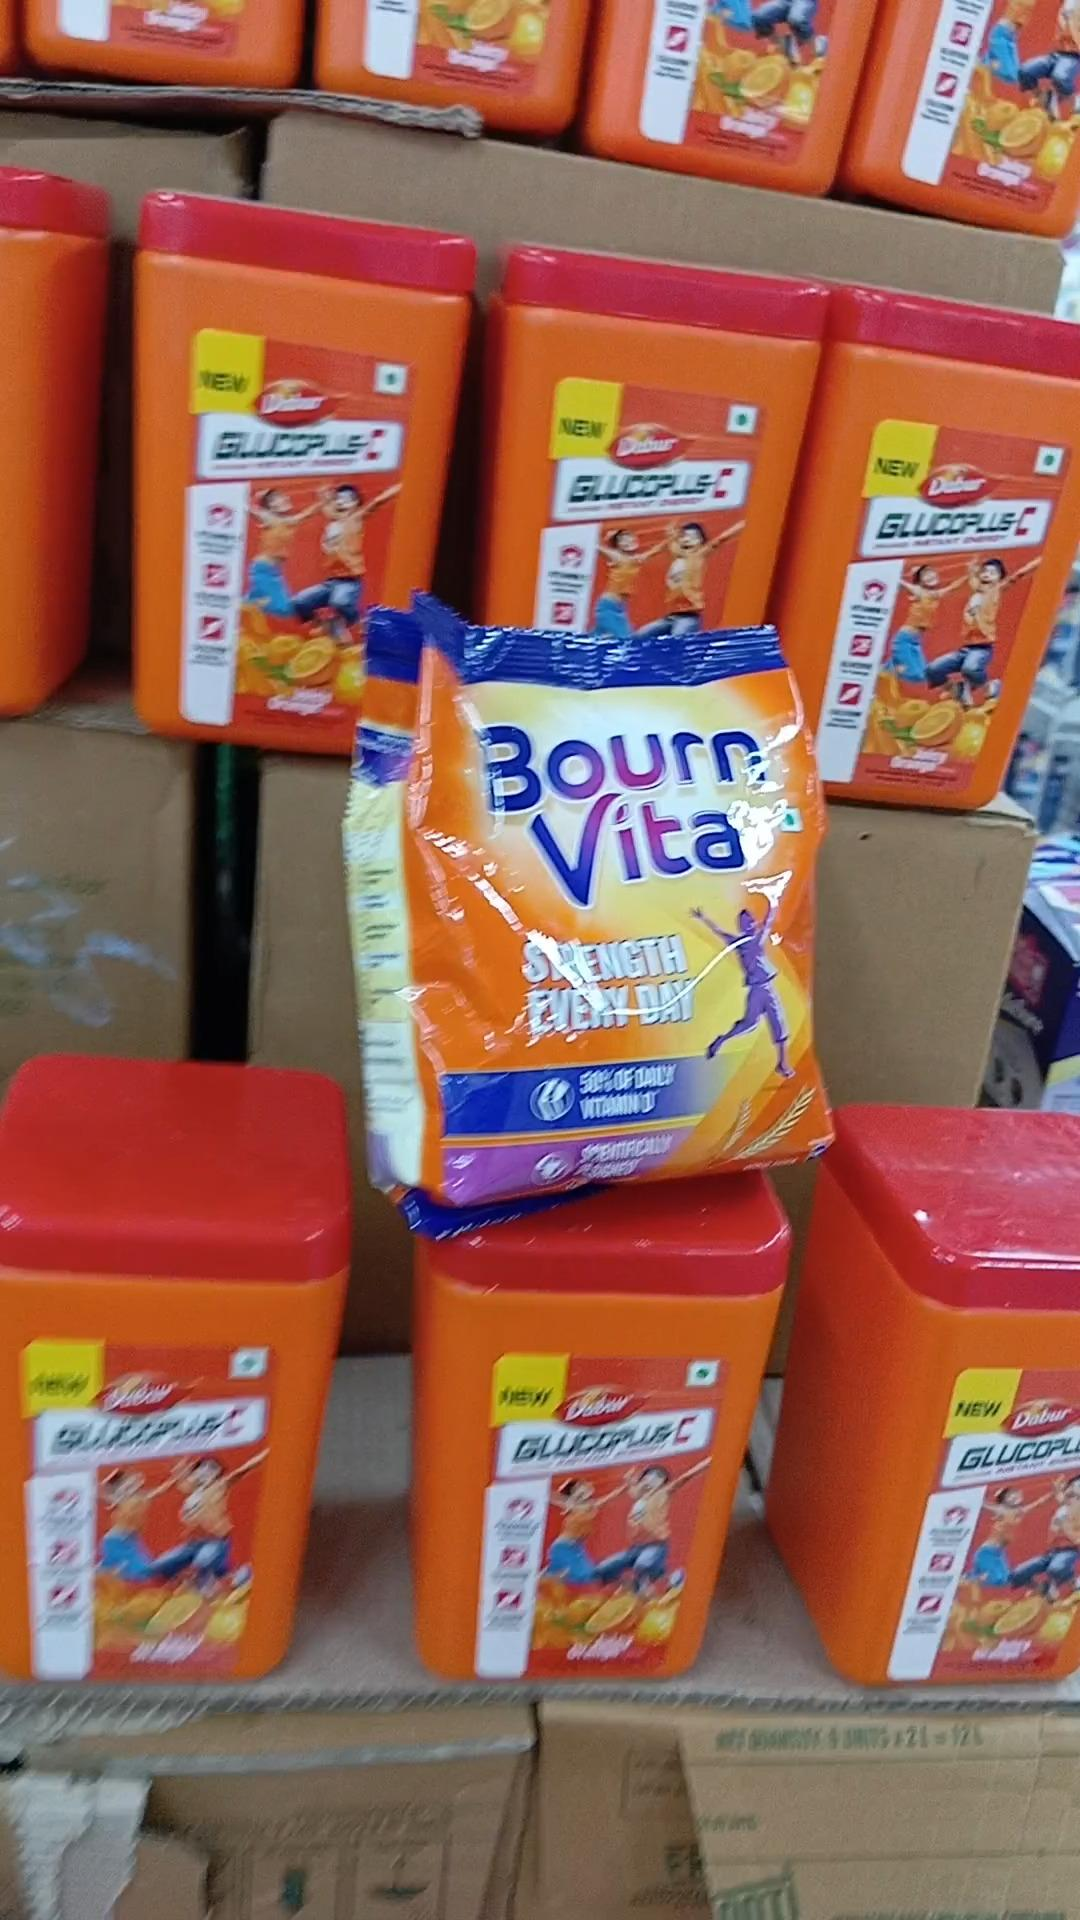BOURN_VITA_500_G_POUCH: (355, 605, 832, 1199)
